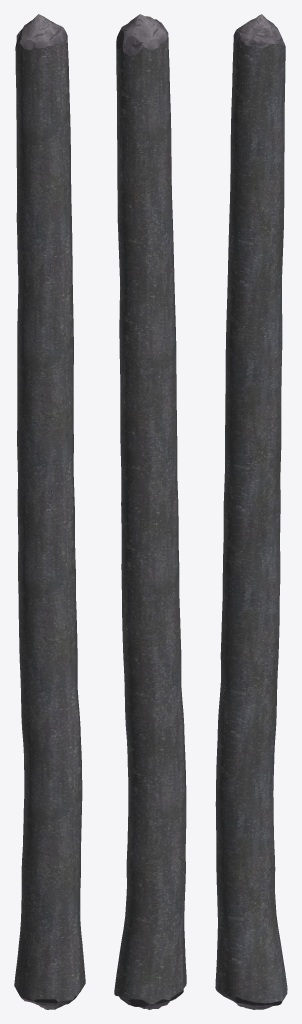
3 views of the same model, side by side, from view 1: azimuth 90°, elevation 25°; view 2: azimuth 150°, elevation 25°; view 3: azimuth 330°, elevation 25° (orthographic).
Visible parts, largest first — view 1: SM_FH_Ash_Tree_03_full_LOD0; view 2: SM_FH_Ash_Tree_03_full_LOD0; view 3: SM_FH_Ash_Tree_03_full_LOD0.
Boxes of the visible parts, <box> form: SM_FH_Ash_Tree_03_full_LOD0: <box>14,14,85,1009</box>; SM_FH_Ash_Tree_03_full_LOD0: <box>114,14,186,1009</box>; SM_FH_Ash_Tree_03_full_LOD0: <box>215,14,287,1009</box>.
Bounding box in the file's own units: 0.5919 × 8.86 × 0.5784.
Materials: 1 (1 with a texture image).
